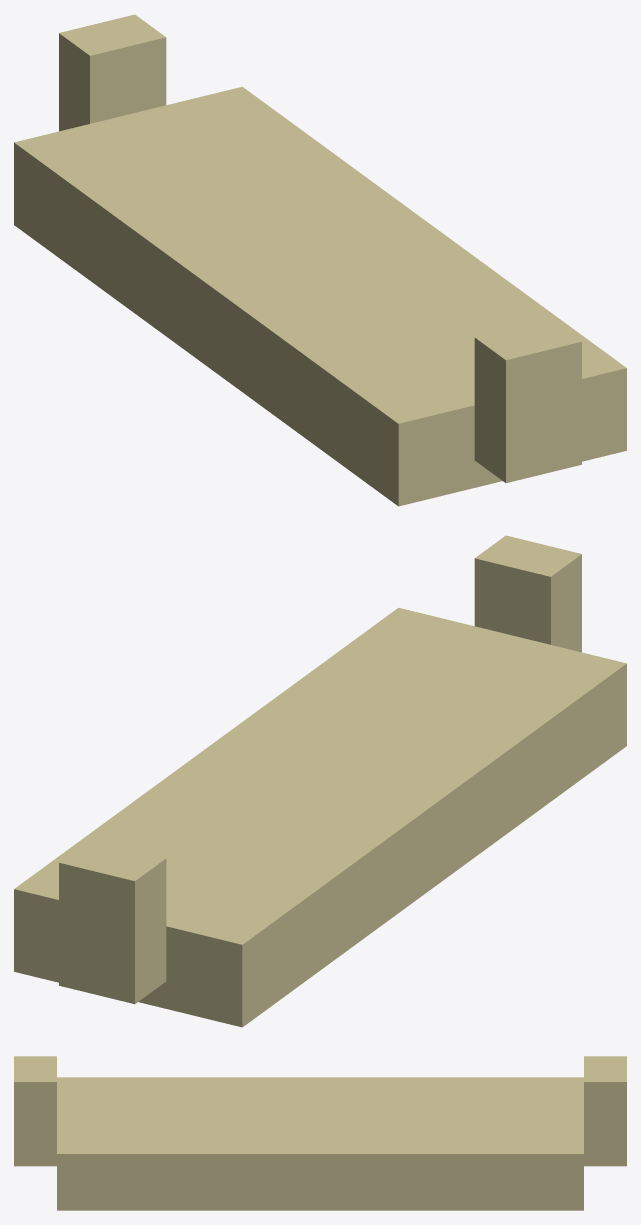
Rendered from small_Ceiling_light.fbx.
3 views of the same model, one above another, from view 1: azimuth 30°, elevation 25°; view 2: azimuth 150°, elevation 25°; view 3: azimuth 270°, elevation 25° (orthographic). The views are drawn at different scales.
Parts seen in each view (by area): view 1: Cube.012; view 2: Cube.012; view 3: Cube.012.
Part boxes in pixels (<box>): Cube.012: <box>14,14,626,506</box>; Cube.012: <box>14,535,626,1027</box>; Cube.012: <box>14,1056,626,1210</box>.
Size of the model in its own units: 233 by 147 by 791.
